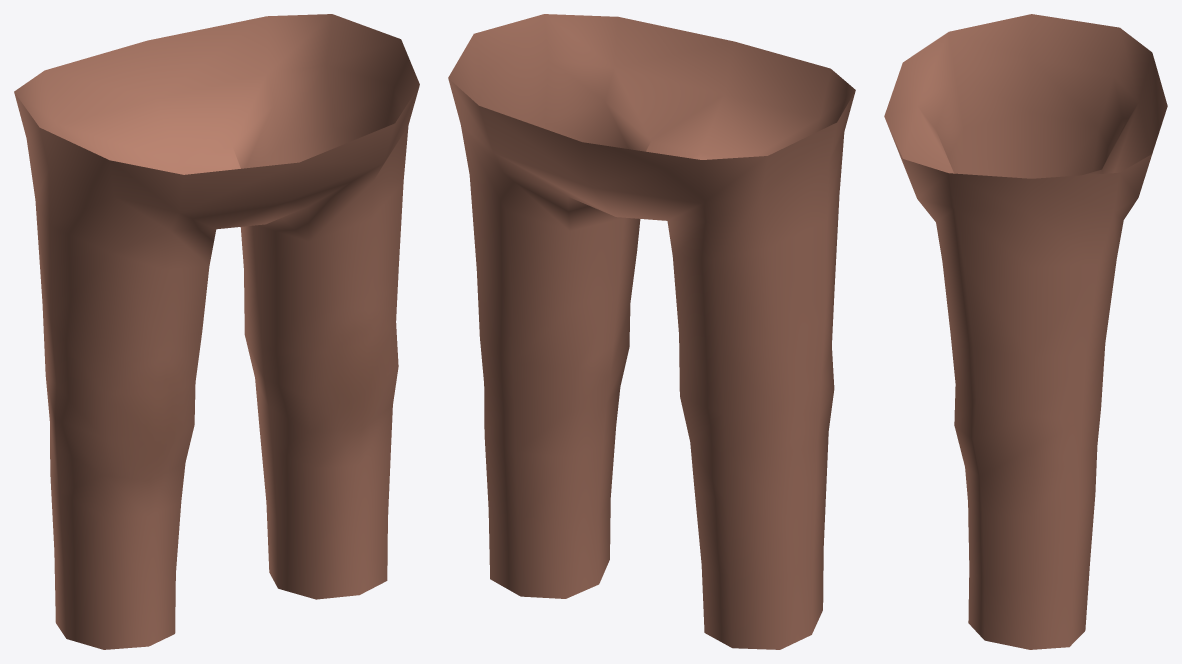
Rendered from Body_Brown_Bottom_2.fbx.
3 views of the same model, side by side, from view 1: azimuth 30°, elevation 25°; view 2: azimuth 150°, elevation 25°; view 3: azimuth 270°, elevation 25° (orthographic). The views are drawn at different scales.
Visible parts, largest first — view 1: Body_Brown_Bottom_2; view 2: Body_Brown_Bottom_2; view 3: Body_Brown_Bottom_2.
Part boxes in pixels (x1,y1,x2,y2): Body_Brown_Bottom_2: [14, 14, 419, 649]; Body_Brown_Bottom_2: [448, 14, 855, 649]; Body_Brown_Bottom_2: [884, 14, 1167, 649].
Bounding box in the file's own units: 34.87 × 48 × 25.35.
